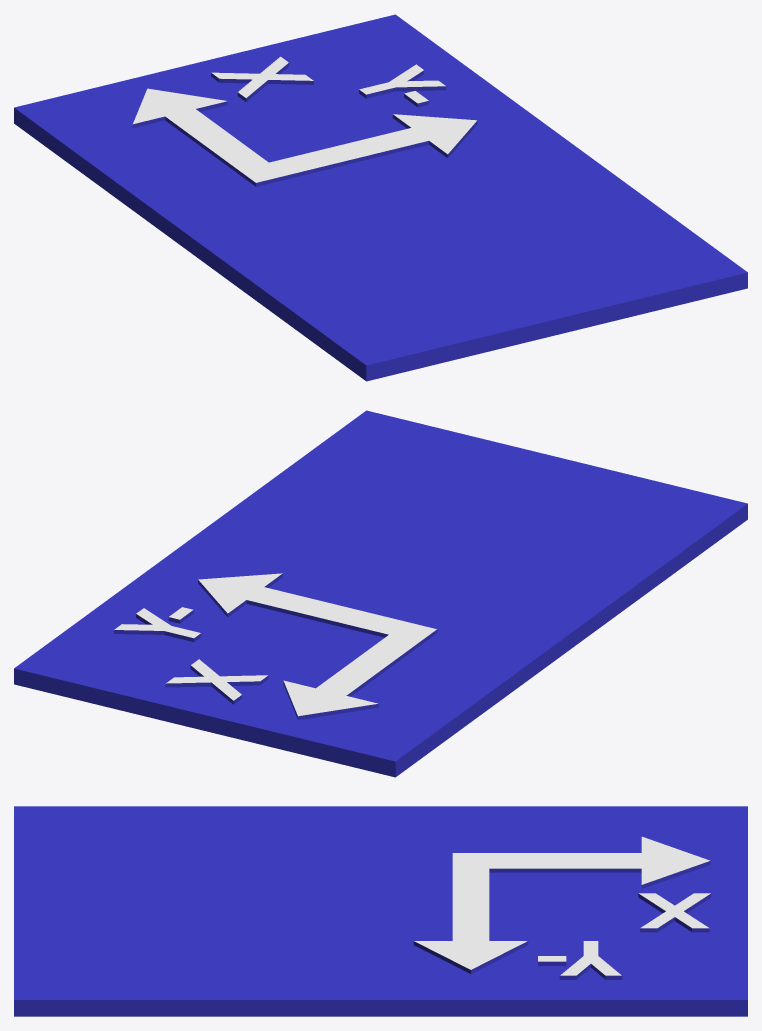
The model's file is model_ist8310-CPiQCx8B.glb.
3 renders of one model, top to bottom at view 1: azimuth 30°, elevation 25°; view 2: azimuth 150°, elevation 25°; view 3: azimuth 270°, elevation 25°, orthographic. The views are drawn at different scales.
Size of the model in its own units: 10 by 1.3 by 16.
